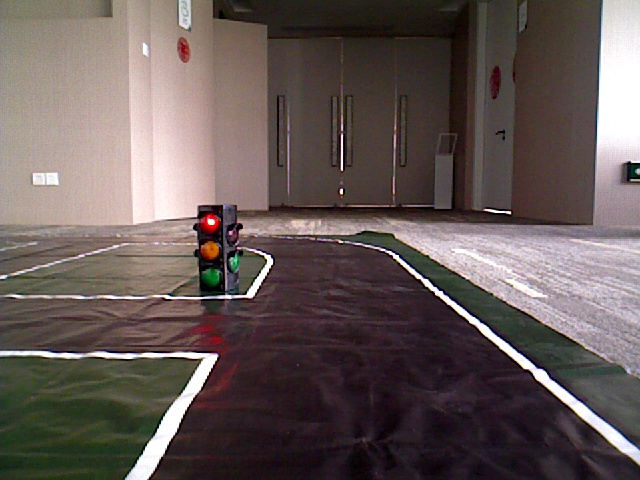red: (197, 208, 225, 290)
